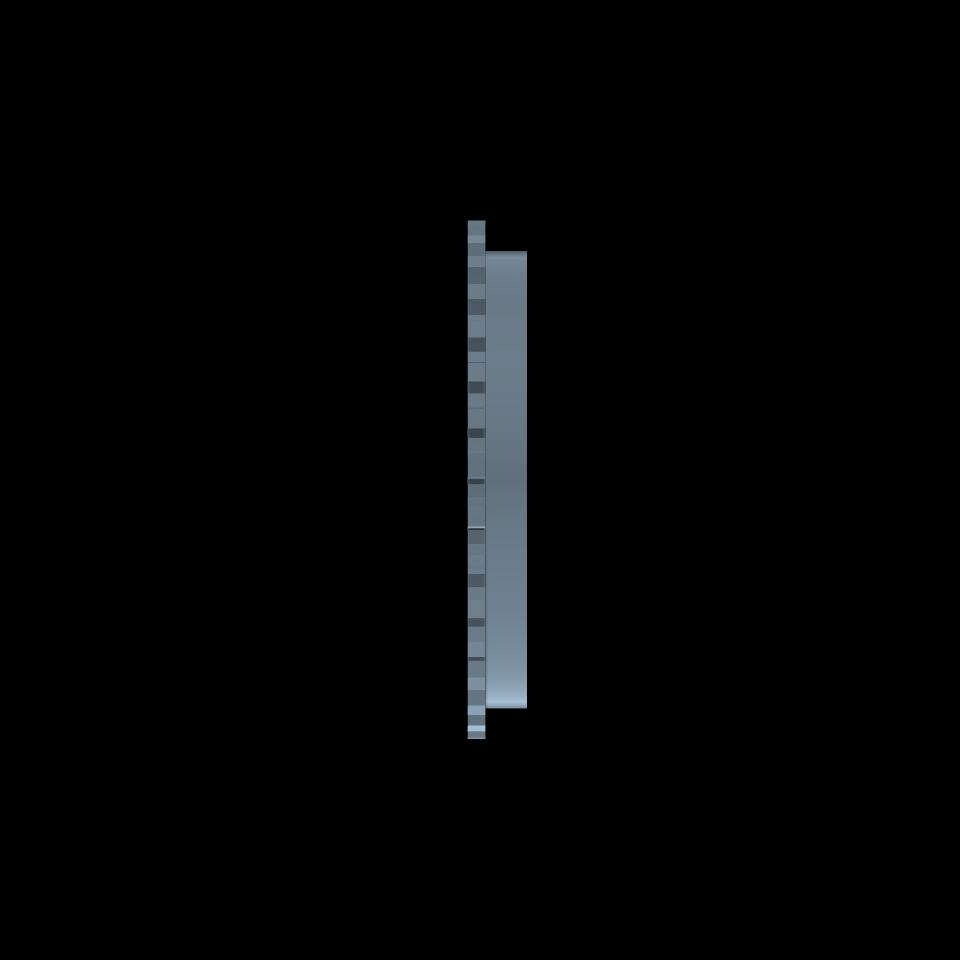Straight: (466, 219, 485, 738)
